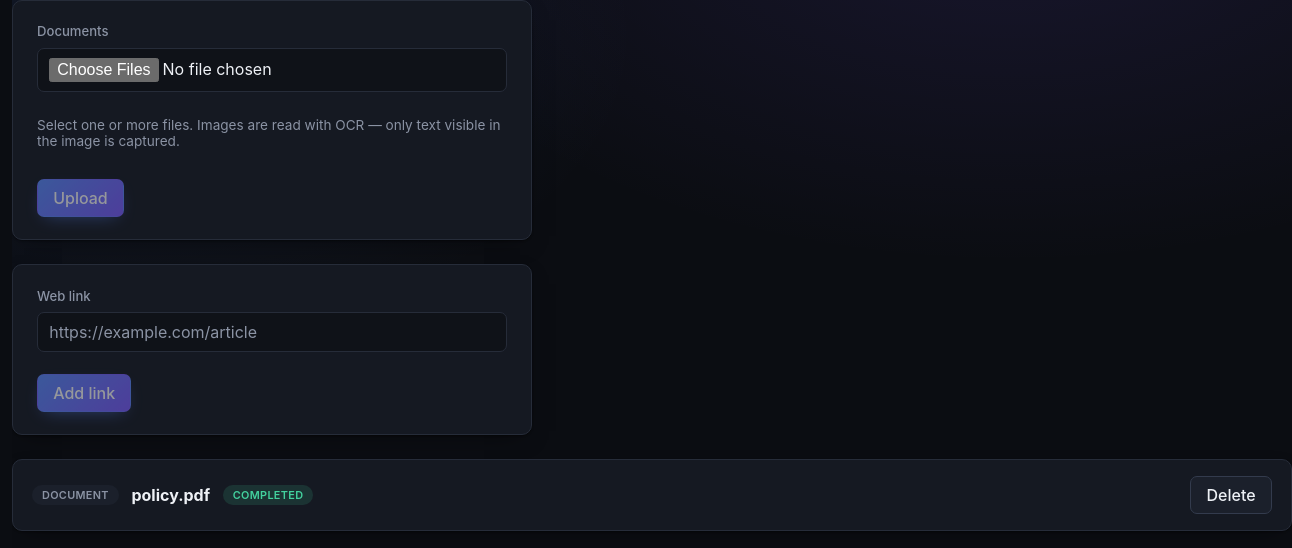
Test case: SourcesPanel › deletes a source
Click the button "Delete".
click(1231, 495)  # box [1190,476,1272,514]
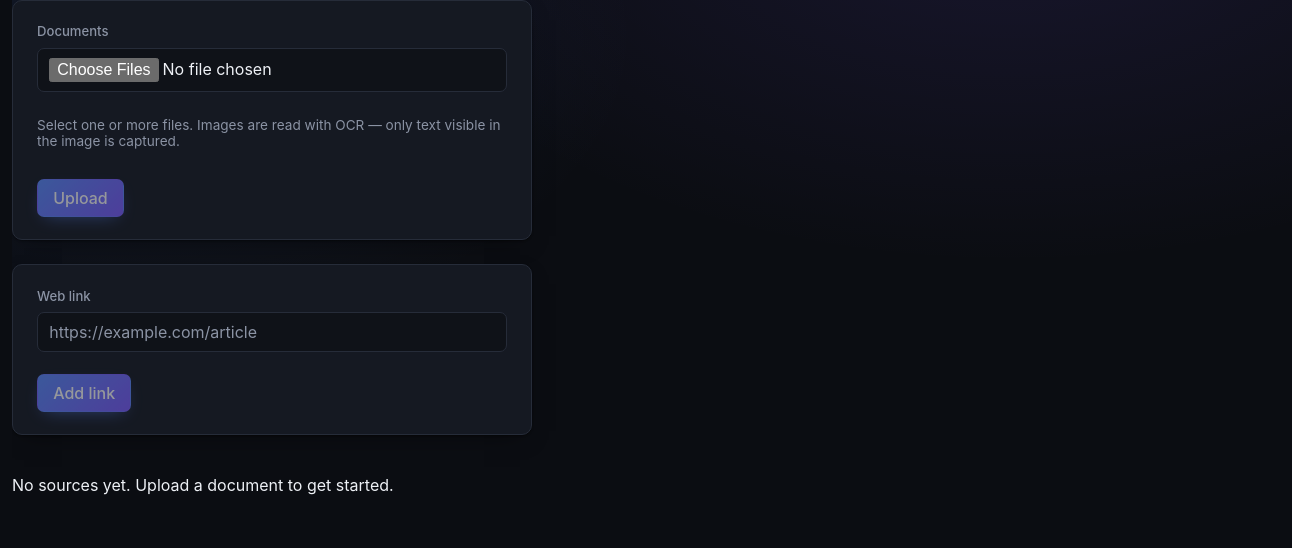
expect the text "policy.pdf" is gone: met
